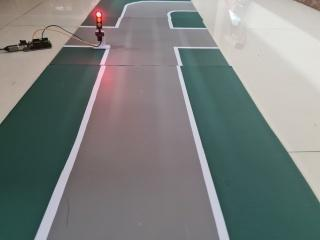red: (86, 8, 107, 40)
